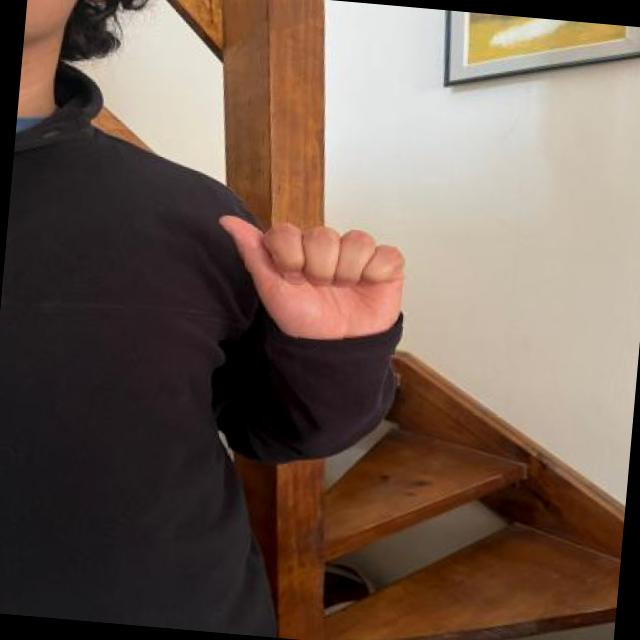A: (199, 196, 419, 356)
